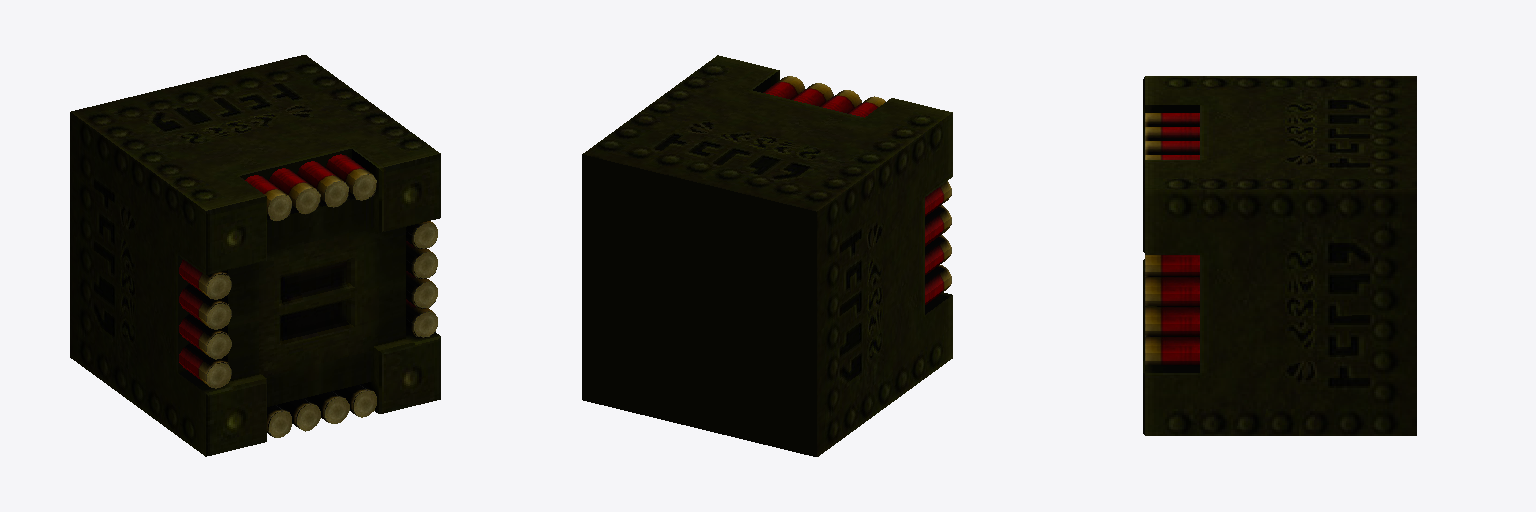
3 views of the same model, side by side, from view 1: azimuth 30°, elevation 25°; view 2: azimuth 150°, elevation 25°; view 3: azimuth 270°, elevation 25° (orthographic).
Bounding box in the file's own units: 25 × 25 × 25.19.
1 materials, 1 textured.